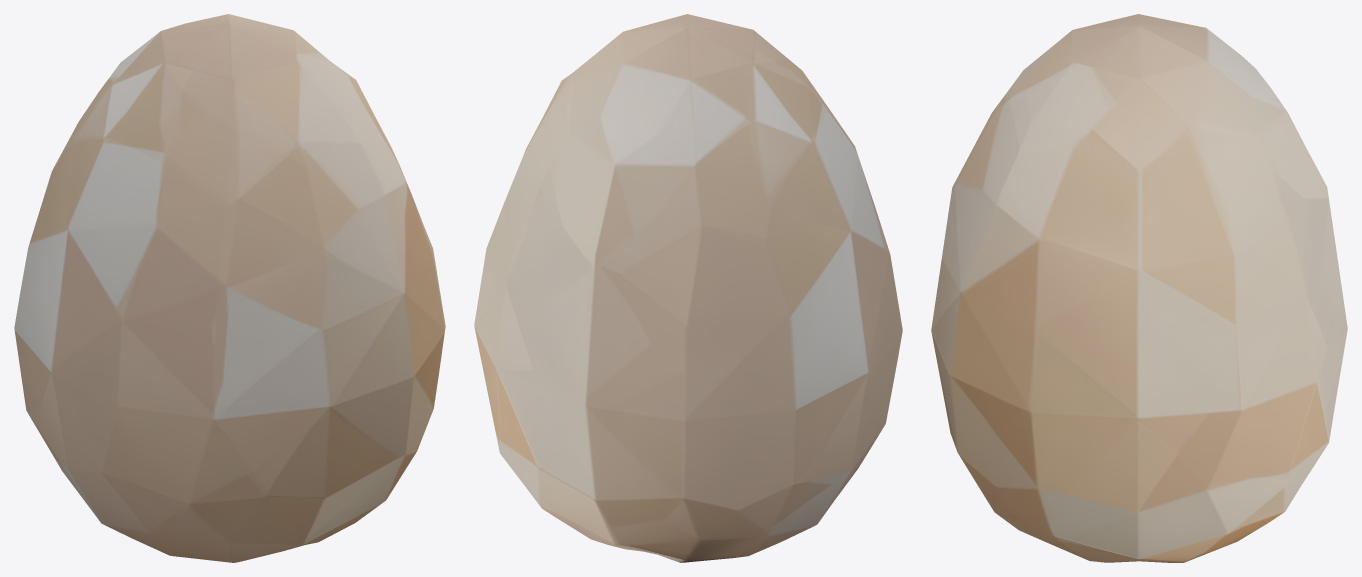
The model's file is base_basic_shaded.fbx.
3 renders of one model, left to right at view 1: azimuth 30°, elevation 25°; view 2: azimuth 150°, elevation 25°; view 3: azimuth 270°, elevation 25°, orthographic.
Visible parts, largest first — view 1: model; view 2: model; view 3: model.
Boxes of the visible parts, x1,y1,x2,y2 form: model: (14, 14, 445, 562); model: (474, 14, 902, 562); model: (931, 14, 1347, 562).
Bounding box in the file's own units: 128 × 175 × 128.
